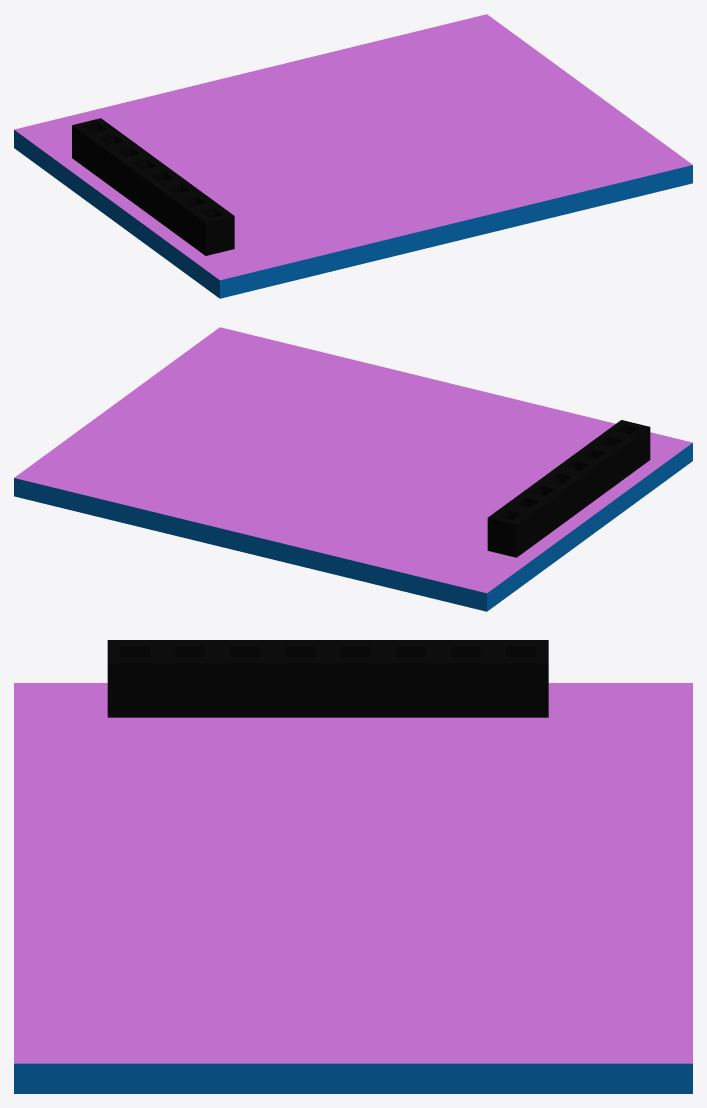
File: RFIC.fbx
3 renders of one model, top to bottom at view 1: azimuth 30°, elevation 25°; view 2: azimuth 150°, elevation 25°; view 3: azimuth 270°, elevation 25°, orthographic. The views are drawn at different scales.
Parts seen in each view (by area): view 1: Cube.001; view 2: Cube.001; view 3: Cube.001.
Boxes of the visible parts, x1=… form: Cube.001: x1=14, y1=14, x2=692, y2=298; Cube.001: x1=14, y1=327, x2=692, y2=611; Cube.001: x1=14, y1=640, x2=692, y2=1093.
Bounding box in the file's own units: 150 × 15.55 × 113.
